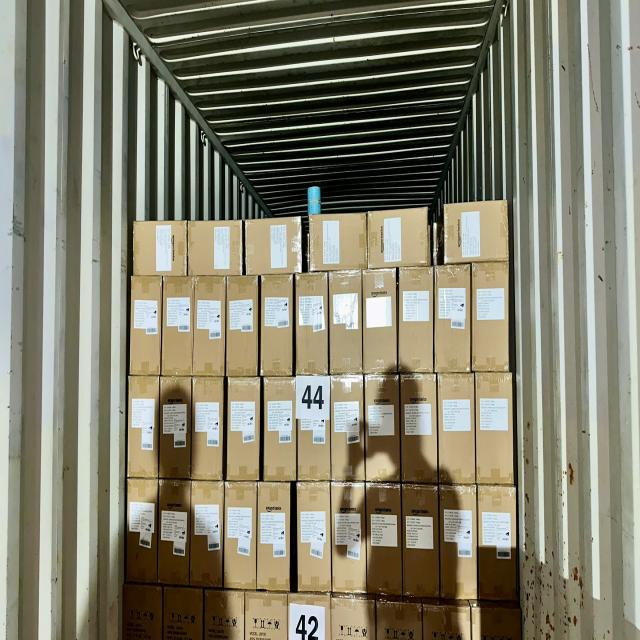Carton: (478, 486, 518, 600), (476, 374, 516, 486), (442, 485, 480, 599), (404, 485, 442, 598), (436, 376, 474, 487), (402, 377, 440, 487), (473, 264, 511, 374), (433, 264, 471, 372), (365, 484, 401, 596), (295, 481, 331, 593), (446, 203, 512, 264), (363, 376, 399, 486), (332, 482, 366, 595), (400, 267, 436, 373), (259, 481, 293, 591), (368, 206, 430, 266), (361, 268, 396, 373), (332, 377, 366, 484), (296, 374, 330, 481), (225, 378, 259, 483), (223, 482, 256, 589), (330, 270, 364, 373), (262, 277, 296, 378), (263, 378, 296, 482), (294, 274, 328, 374), (192, 481, 224, 587), (193, 380, 226, 482), (310, 216, 368, 274), (126, 478, 158, 583), (162, 378, 194, 482), (246, 220, 304, 277), (194, 276, 227, 374), (128, 379, 160, 480), (162, 480, 193, 584), (225, 275, 257, 375), (130, 276, 162, 374), (188, 223, 243, 279), (161, 277, 192, 375), (134, 220, 188, 276), (123, 585, 162, 640), (162, 588, 202, 640), (286, 596, 332, 640), (205, 591, 246, 640), (246, 593, 288, 640), (331, 598, 376, 640), (374, 603, 422, 640), (420, 605, 470, 640), (472, 606, 523, 640)
